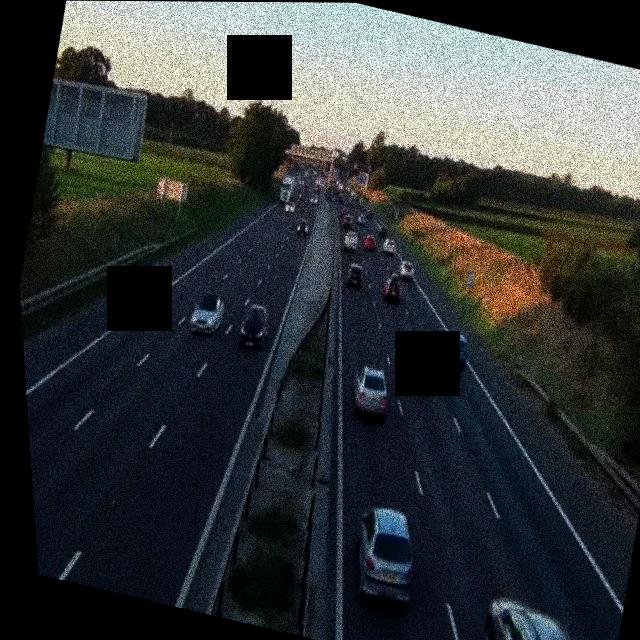car: (342, 503, 429, 607), (470, 593, 606, 640), (347, 363, 395, 417), (187, 288, 229, 338), (396, 345, 438, 392), (235, 301, 274, 350), (437, 328, 472, 367), (380, 274, 406, 304), (343, 262, 366, 288), (395, 259, 416, 282), (341, 228, 361, 251), (361, 232, 379, 251), (380, 237, 398, 255), (294, 216, 311, 235), (340, 214, 354, 231), (282, 197, 296, 213), (363, 208, 376, 223), (308, 193, 319, 206)
truck: (276, 175, 297, 207)
